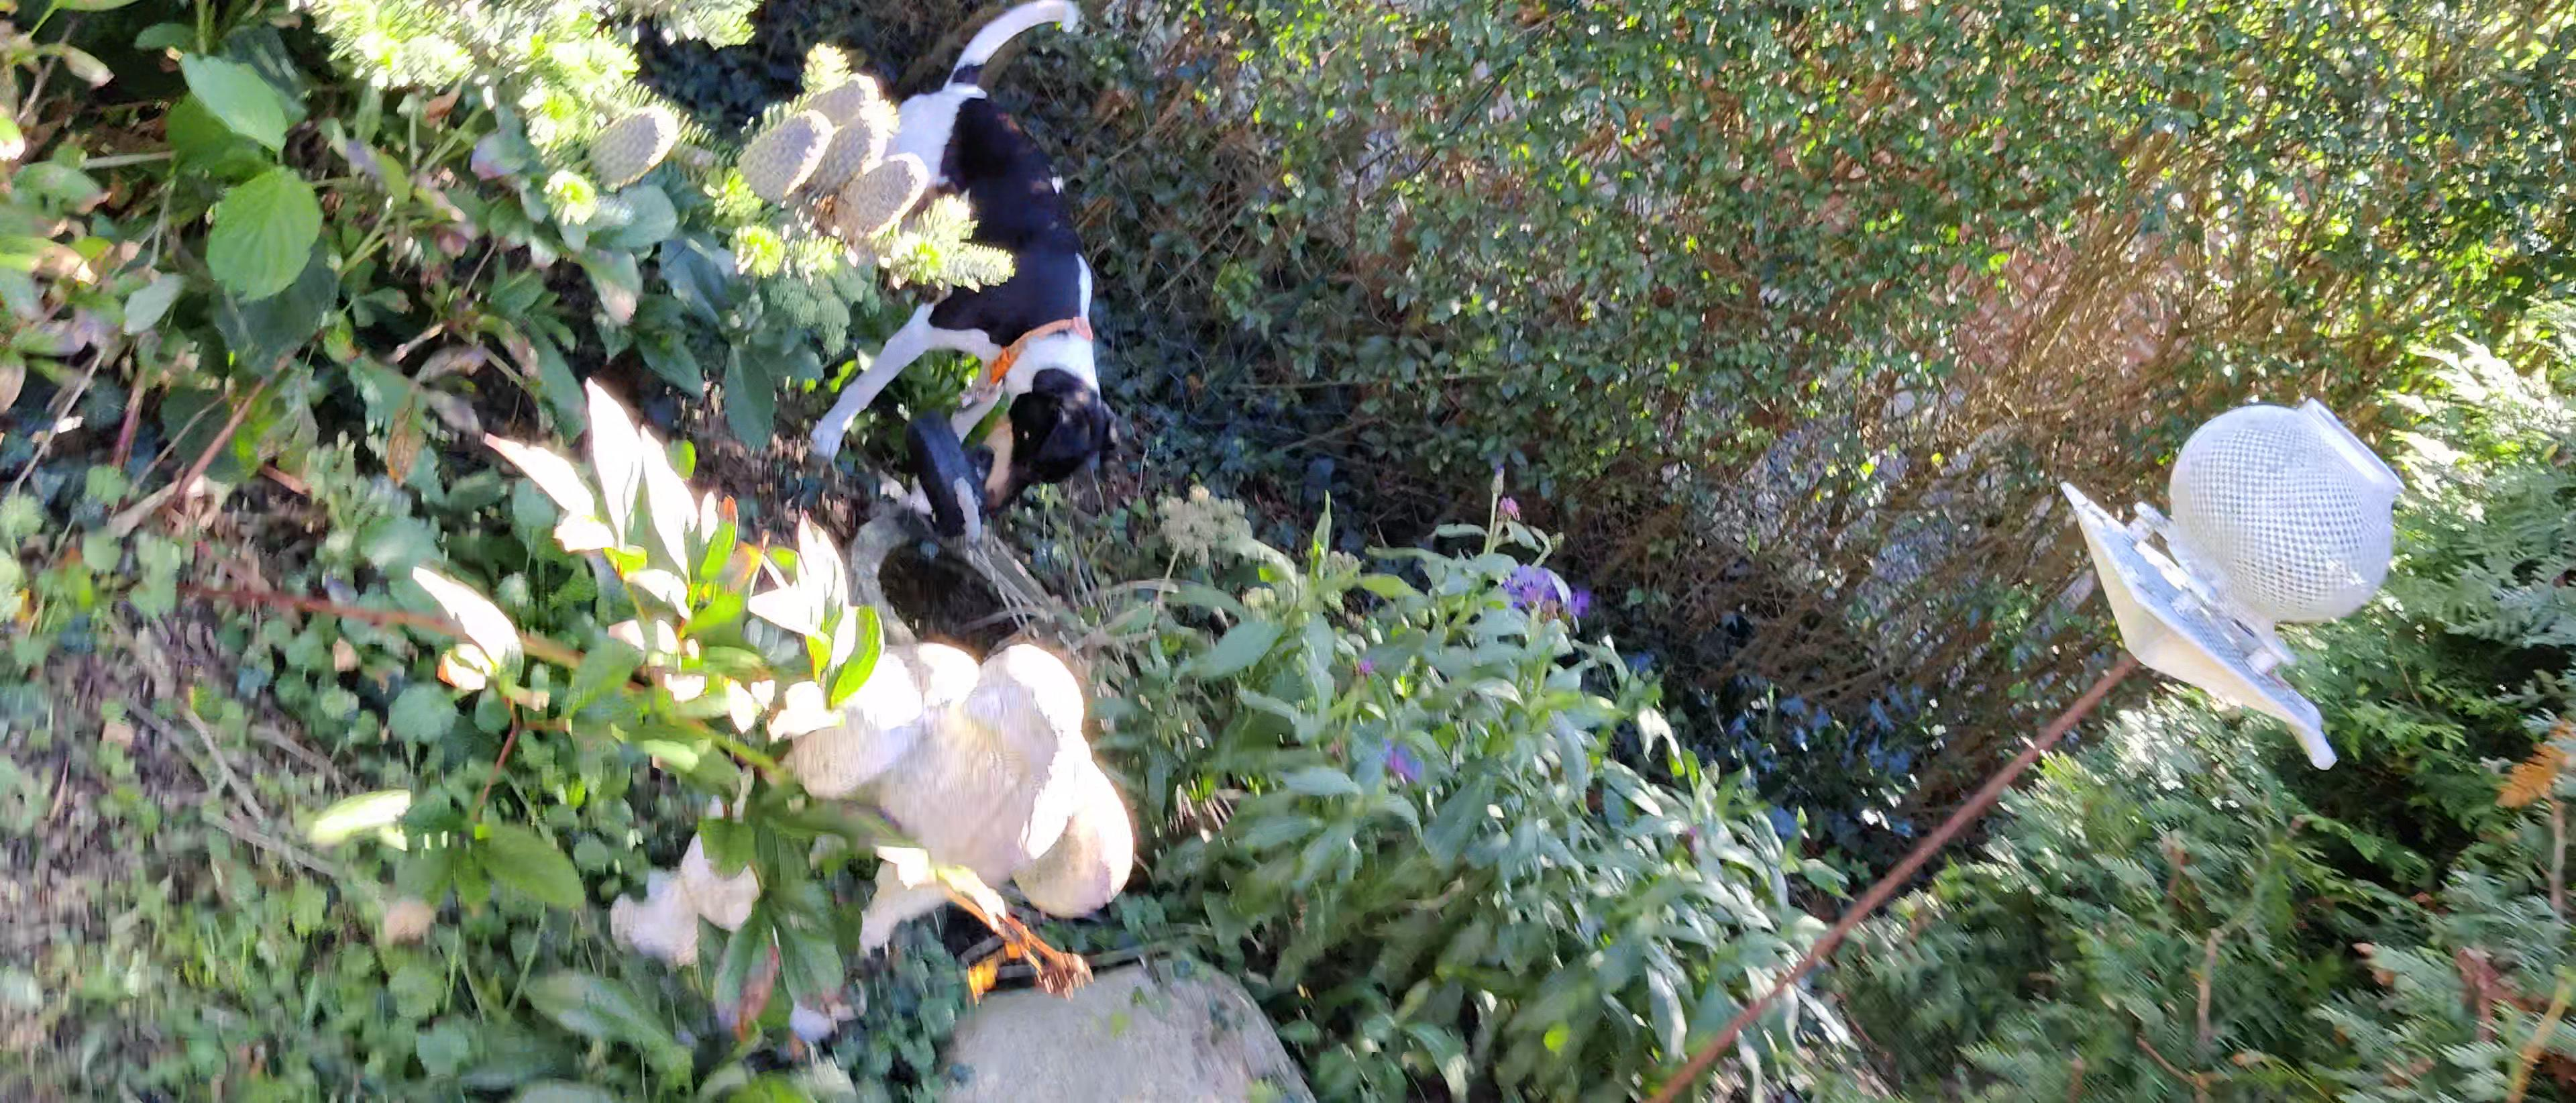Dog: (802, 0, 1124, 521)
